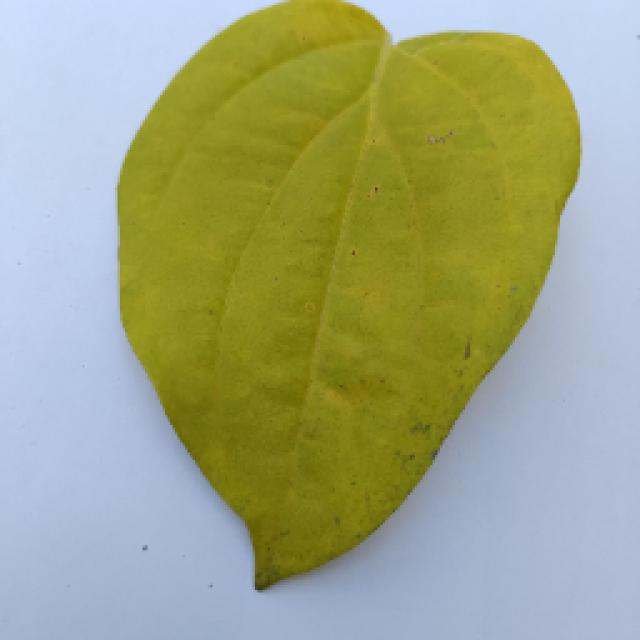slow-decline: (95, 15, 600, 597)
